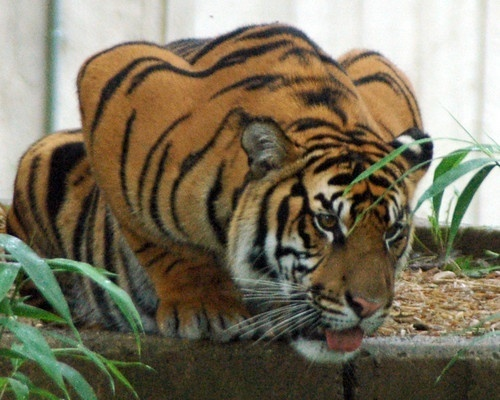tigre: (1, 13, 442, 368)
